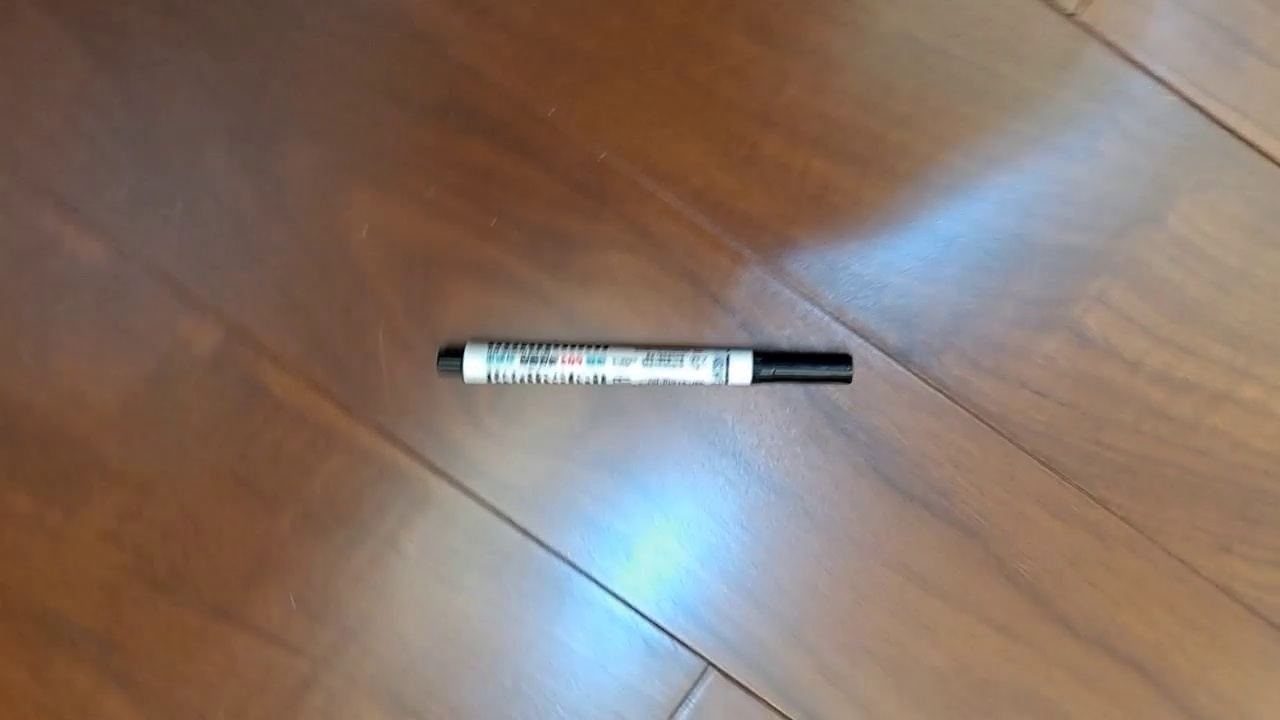pen: (434, 337, 854, 388)
